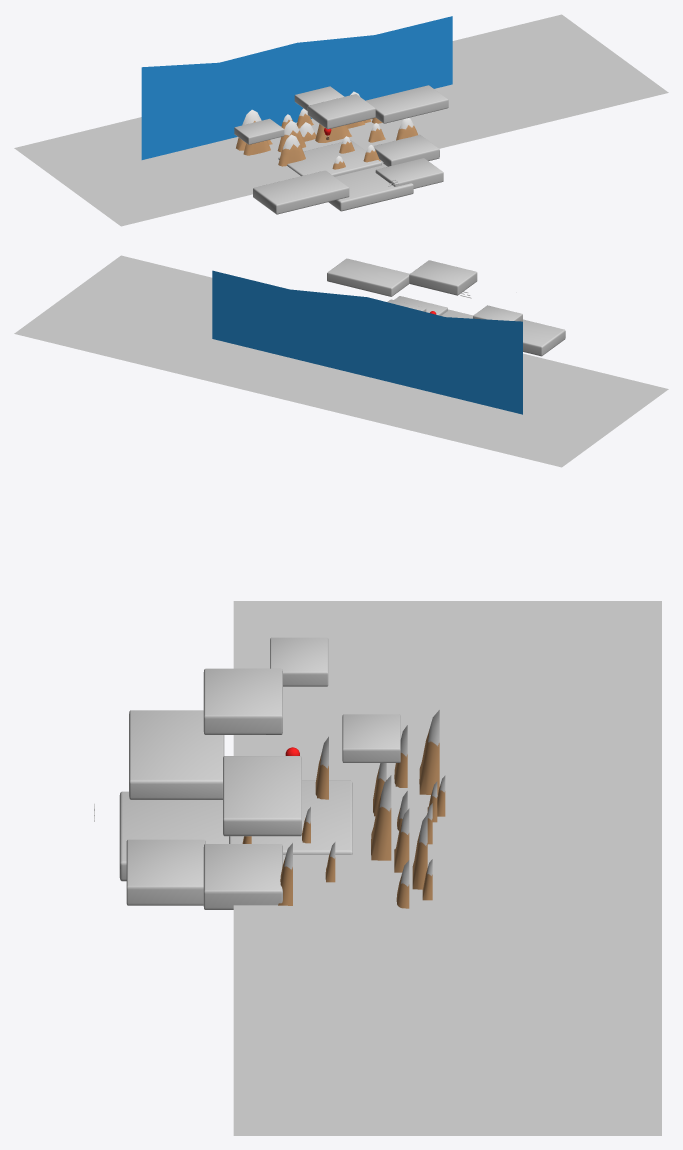
The model's file is Mountain_Level (1).FBX.
3 renders of one model, top to bottom at view 1: azimuth 30°, elevation 25°; view 2: azimuth 150°, elevation 25°; view 3: azimuth 270°, elevation 25°, orthographic. The views are drawn at different scales.
Visible parts, largest first — view 1: Plane013, Plane002, Box004, Box007, Box010, Box005, Box009, Box006, Box008, Box011, Box012, Plane021 (+2 smaller); view 2: Plane013, Plane002, Box010, Box009, Box004, Box011, Box008; view 3: Plane013, Box004, Box010, Box009, Box008, Box006, Box007, Box005, Box012, Box011, Plane004, Plane019.
Part boxes in pixels (x1,y1,x2,y2): Plane013: (14, 14, 668, 226); Plane002: (141, 16, 452, 159); Box004: (253, 170, 349, 214); Box007: (328, 162, 413, 211); Box010: (366, 85, 448, 123); Box005: (278, 140, 381, 176); Box009: (307, 94, 375, 129); Box006: (373, 134, 439, 166); Box008: (375, 158, 443, 188); Box011: (234, 118, 284, 144); Box012: (294, 86, 344, 110); Plane021: (278, 134, 305, 166); Plane013: (14, 255, 668, 467); Plane002: (212, 270, 522, 414); Box010: (327, 258, 409, 296); Box009: (409, 260, 477, 295); Box004: (522, 319, 565, 356); Box011: (473, 305, 522, 321); Box008: (394, 296, 447, 315); Plane013: (233, 601, 661, 1135); Box004: (129, 710, 224, 799); Box010: (223, 756, 301, 836); Box009: (203, 668, 282, 734); Box008: (126, 839, 205, 905); Box006: (203, 844, 282, 909); Box007: (119, 791, 228, 881); Box005: (229, 780, 352, 854); Box012: (342, 714, 400, 762); Box011: (270, 637, 328, 686); Plane004: (371, 775, 391, 860); Plane019: (419, 710, 439, 794).
Bounding box in the file's own units: 17695 × 3604 × 8963.
5 materials, 1 textured.
